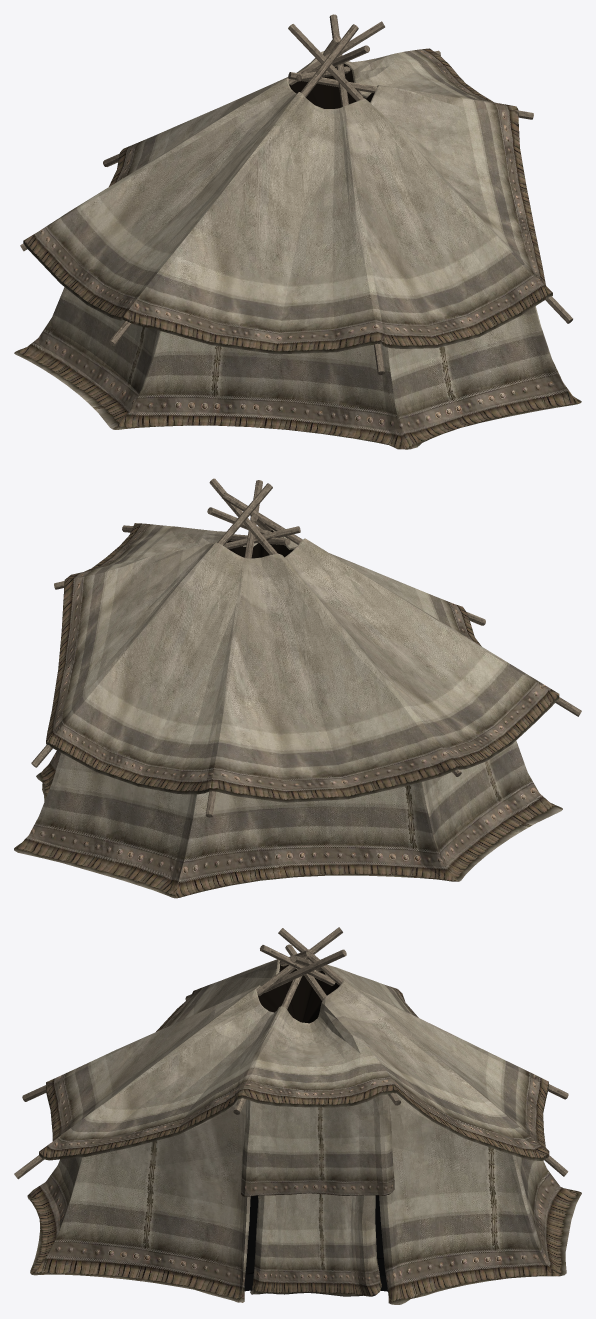
Rendered from TW2_5_TENT_01_1-transformed.glb.
The picture shows the model from 3 angles, top to bottom: view 1: azimuth 30°, elevation 25°; view 2: azimuth 150°, elevation 25°; view 3: azimuth 270°, elevation 25°; orthographic projection. The views are drawn at different scales.
Parts seen in each view (by area): view 1: default; view 2: default; view 3: default.
Part boxes in pixels (x1=…): default: x1=14, y1=14, x2=581, y2=449; default: x1=14, y1=478, x2=581, y2=898; default: x1=14, y1=927, x2=581, y2=1304.
Bounding box in the file's own units: 10.64 × 6.93 × 11.88.
Materials: 3 (2 with a texture image).
